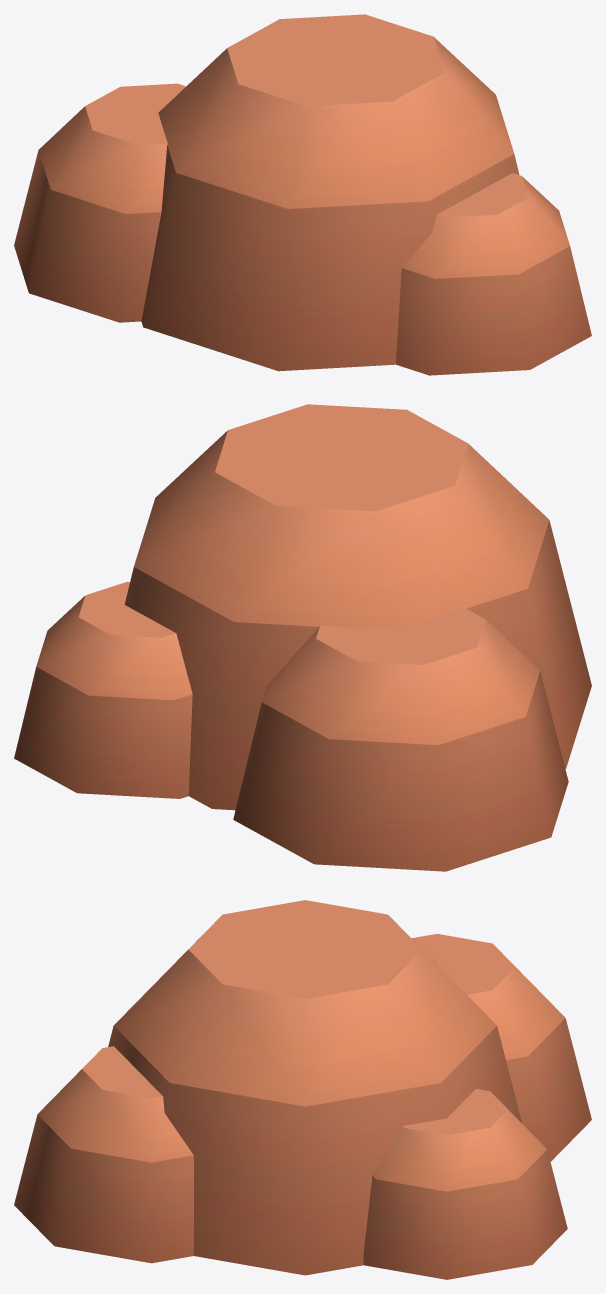
The model's file is cargo-pile-a-transformed.glb.
3 views of the same model, one above another, from view 1: azimuth 30°, elevation 25°; view 2: azimuth 150°, elevation 25°; view 3: azimuth 270°, elevation 25° (orthographic). The views are drawn at different scales.
Visible parts, largest first — view 1: cargo-pile-a; view 2: cargo-pile-a; view 3: cargo-pile-a.
Boxes of the visible parts, left/top/right/bottom form: cargo-pile-a: left=14, top=14, right=591, bottom=375; cargo-pile-a: left=14, top=404, right=591, bottom=871; cargo-pile-a: left=14, top=900, right=591, bottom=1279.
Size of the model in its own units: 2.54 by 1.2 by 2.75.
Materials: 1 (1 with a texture image).
